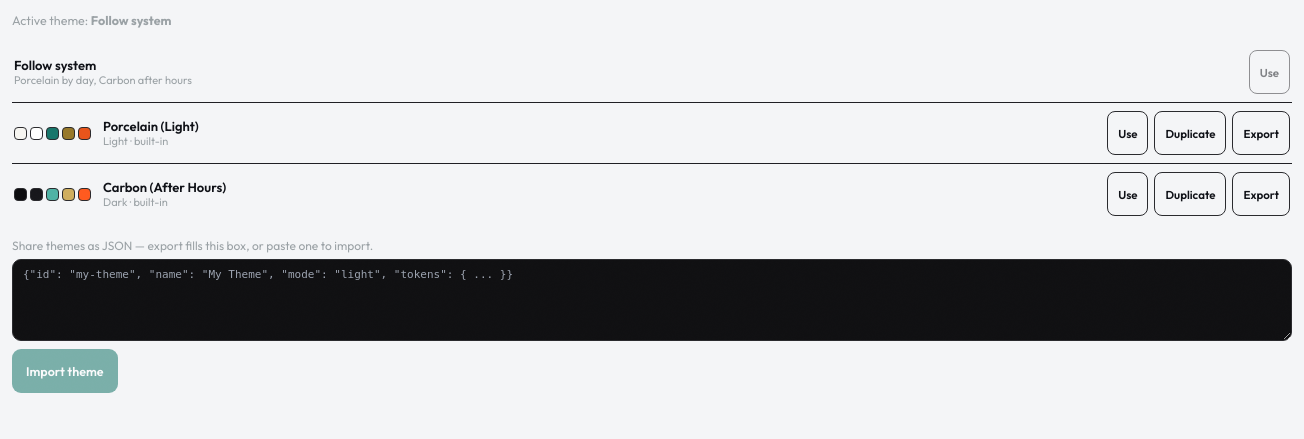
Test: ThemeStudio › reports persistence failures without claiming the theme changed
Click the button "Use" in the row of "Carbon (After Hours)". click: (1128, 194)
box: [1107, 172, 1148, 216]
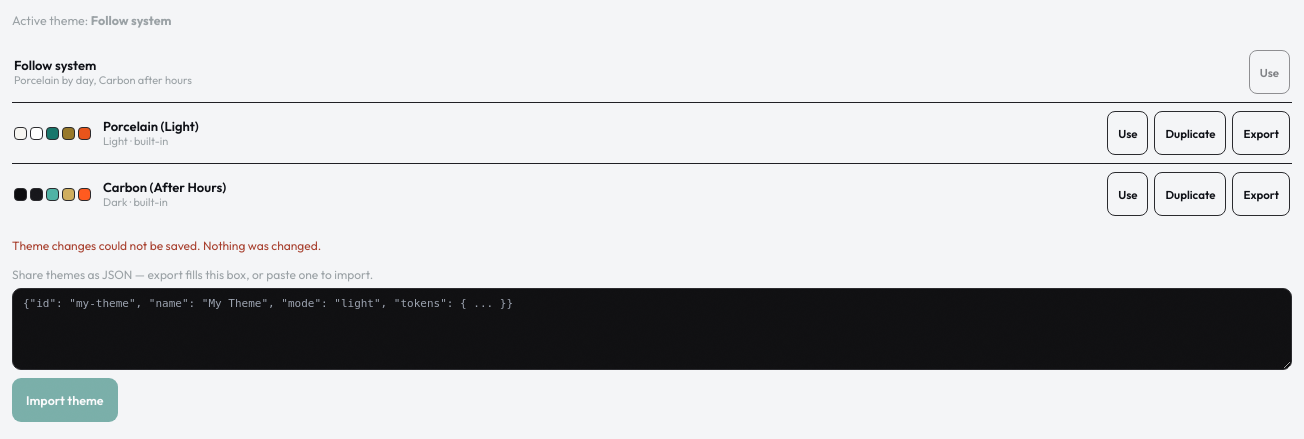
Result: the message "Theme changes could not be saved. Nothing was changed." is shown at [12, 238, 321, 253]
